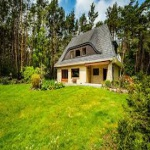Forest: (3, 2, 147, 82)
House: (56, 24, 121, 86)
Uncultivated: (3, 74, 115, 150)
